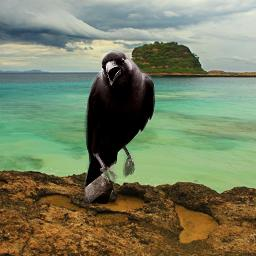Crow: (83, 50, 155, 204)
